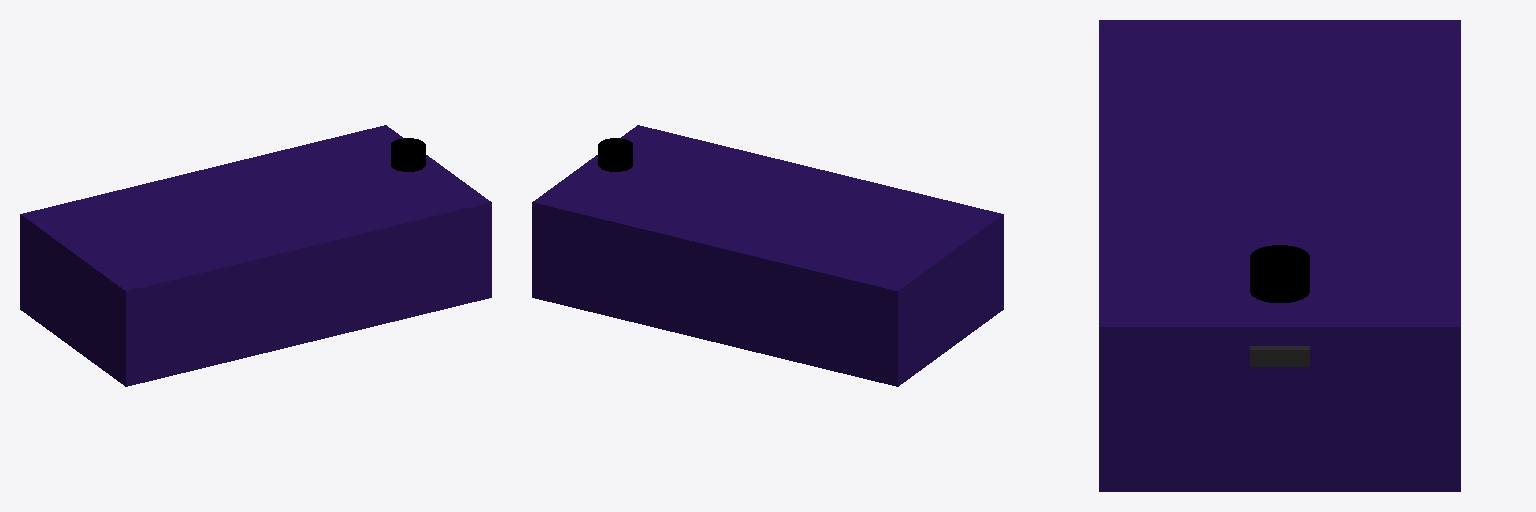
robot.urdf — kaboat_msga:
<?xml version="1.0"?>
<robot name="kaboat_msga">

  <link name="base_link">
    <inertial>
      <mass value="120.0"/> <origin xyz="0 0 0" rpy="0 0 0"/>
      <inertia ixx="4.5" ixy="0.0" ixz="0.0" iyy="15.0" iyz="0.0" izz="18.0"/>
    </inertial>
    <visual>
      <geometry>
        <box size="1.2 0.6 0.3"/>
      </geometry>
      <material name="purple_navy">
        <color rgba="0.2 0.1 0.4 1.0"/>
      </material>
    </visual>
    <collision>
      <geometry>
        <box size="1.2 0.6 0.3"/>
      </geometry>
    </collision>
  </link>

  <link name="lidar_link">
    <visual>
      <geometry><cylinder length="0.06" radius="0.05"/></geometry>
      <material name="black"><color rgba="0 0 0 1"/></material>
    </visual>
  </link>
  <joint name="lidar_joint" type="fixed">
    <parent link="base_link"/>
    <child link="lidar_link"/>
    <origin xyz="0.5 0.0 0.2" rpy="0 0 0"/>
  </joint>

  <link name="depth_camera_link">
    <visual>
      <geometry><box size="0.03 0.1 0.03"/></geometry>
      <material name="dark_grey"><color rgba="0.2 0.2 0.2 1"/></material>
    </visual>
  </link>
  <joint name="depth_camera_joint" type="fixed">
    <parent link="base_link"/>
    <child link="depth_camera_link"/>
    <origin xyz="0.6 0.0 0.1" rpy="0 0 0"/>
  </joint>

  <link name="imu_link"/>
  <joint name="imu_joint" type="fixed">
    <parent link="base_link"/>
    <child link="imu_link"/>
    <origin xyz="0.0 0.0 0.0" rpy="0 0 0"/>
  </joint>

  <link name="gps_link"/>
  <joint name="gps_joint" type="fixed">
    <parent link="base_link"/>
    <child link="gps_link"/>
    <origin xyz="-0.2 0.0 0.3" rpy="0 0 0"/>
  </joint>


  <gazebo reference="lidar_link">
    <sensor name="lidar_2d" type="gpu_lidar">
      <update_rate>30</update_rate>
      <topic>/kaboat/laser/scan</topic>
      <lidar>
        <scan>
          <horizontal>
            <samples>720</samples> <resolution>1</resolution>
            <min_angle>-3.141592</min_angle> <max_angle>3.141592</max_angle>
          </horizontal>
          <vertical>
            <samples>1</samples> <resolution>1</resolution>
            <min_angle>0</min_angle>
            <max_angle>0</max_angle>
          </vertical>
        </scan>
        <range>
          <min>0.15</min>
          <max>30.0</max> </range>
      </lidar>
    </sensor>
  </gazebo>

  <gazebo reference="depth_camera_link">
    <sensor name="depth_camera" type="depth_camera">
      <update_rate>30</update_rate>
      <topic>/kaboat/camera</topic>
      <camera>
        <horizontal_fov>1.50098</horizontal_fov> <image>
          <width>640</width>
          <height>480</height>
          <format>R8G8B8</format>
        </image>
        <clip>
          <near>0.1</near>
          <far>15.0</far> </clip>
      </camera>
    </sensor>
  </gazebo>

  <gazebo reference="imu_link">
    <sensor name="imu_sensor" type="imu">
      <always_on>1</always_on>
      <update_rate>100</update_rate> <topic>/kaboat/imu/data</topic>
    </sensor>
  </gazebo>

  <gazebo reference="gps_link">
    <sensor name="gps_sensor" type="navsat">
      <always_on>1</always_on>
      <update_rate>10</update_rate> <topic>/kaboat/gps/fix</topic>
    </sensor>
  </gazebo>

  <!-- 부력 플러그인 -->
  <gazebo>
    <plugin filename="gz-sim-hydrodynamics-system" name="gz::sim::systems::Hydrodynamics">
      <link_name>base_link</link_name>
      
      <xU>-50.0</xU>         <xUabsU>-20.0</xUabsU>  <yV>-100.0</yV>        <yVabsV>-50.0</yVabsV>  <zW>-400.0</zW>        <zWabsW>-200.0</zWabsW> <kP>-50.0</kP>         <mQ>-50.0</mQ>         <nR>-20.0</nR>         </plugin>
  </gazebo>

</robot>

--- What the picture shows (computed from the rendered views, not written in the file) ---
3 views of the same robot in one strip: view 1: azimuth 30°, elevation 25°; view 2: azimuth 150°, elevation 25°; view 3: azimuth 270°, elevation 25° (orthographic).
Robot: kaboat_msga — 5 links, 4 joints (4 fixed); root link base_link; default pose: all joints at 0.
Links seen in each view (by area): view 1: base_link, lidar_link; view 2: base_link, lidar_link; view 3: base_link, lidar_link, depth_camera_link.
Link boxes in pixels (x1,y1,x2,y2): base_link: (20,125,491,386); lidar_link: (391,138,425,171); base_link: (532,125,1003,386); lidar_link: (598,138,632,171); base_link: (1099,20,1460,491); lidar_link: (1250,245,1309,302); depth_camera_link: (1250,346,1309,366).
Size in the robot's own frame: 1.22 by 0.6 by 0.38 metres.
Geometry: primitives only (box / cylinder / sphere), no mesh files.
